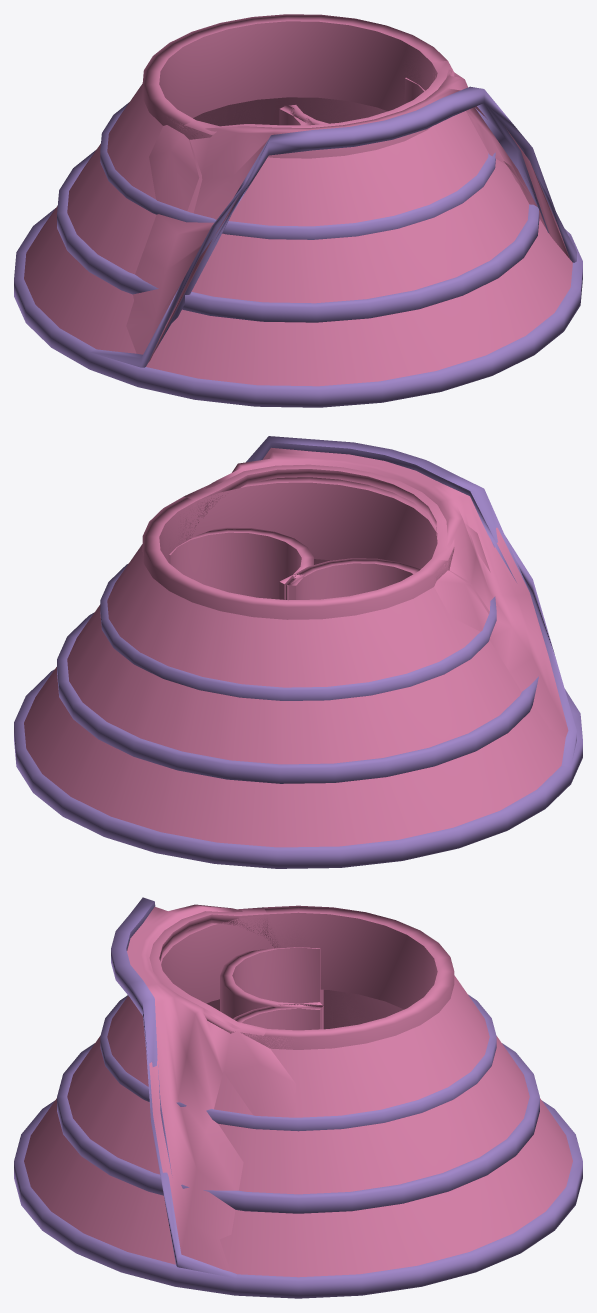
The model's file is corte_skirt.glb.
3 views of the same model, one above another, from view 1: azimuth 30°, elevation 25°; view 2: azimuth 150°, elevation 25°; view 3: azimuth 270°, elevation 25° (orthographic).
Visible parts, largest first — view 1: corte_skirt_Body, corte_skirt_Body_sit, corte_skirt_LegR_sit; view 2: corte_skirt_Body, corte_skirt_Body_sit, corte_skirt_LegR_sit, corte_skirt_LegL_sit; view 3: corte_skirt_Body, corte_skirt_Body_sit, corte_skirt_LegL_sit, corte_skirt_LegR_sit.
Boxes of the visible parts, bbox=[...] form: corte_skirt_Body: bbox=[14, 14, 582, 407]; corte_skirt_Body_sit: bbox=[90, 41, 576, 367]; corte_skirt_LegR_sit: bbox=[284, 77, 424, 124]; corte_skirt_Body: bbox=[14, 477, 582, 868]; corte_skirt_Body_sit: bbox=[165, 436, 576, 766]; corte_skirt_LegR_sit: bbox=[168, 527, 313, 599]; corte_skirt_LegL_sit: bbox=[284, 558, 420, 599]; corte_skirt_Body: bbox=[14, 905, 582, 1298]; corte_skirt_Body_sit: bbox=[111, 897, 403, 1278]; corte_skirt_LegL_sit: bbox=[220, 947, 323, 1029]; corte_skirt_LegR_sit: bbox=[233, 1003, 323, 1030].
Size of the model in its own units: 0.748 by 0.3852 by 0.748.
